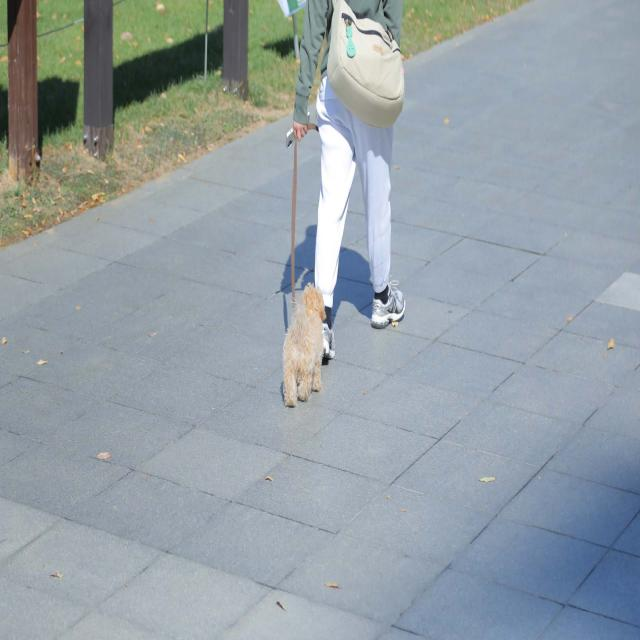Leashed_Dog: (283, 76, 361, 409)
